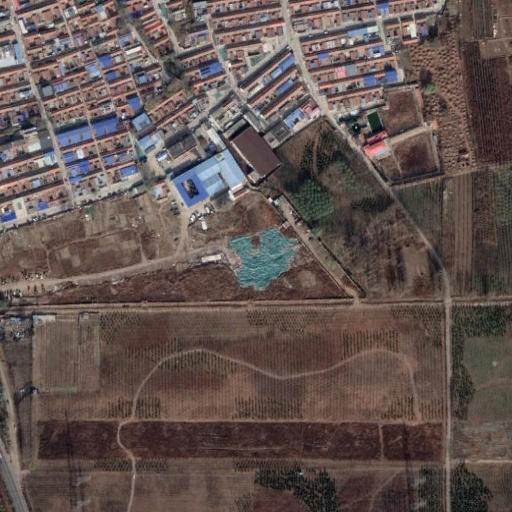cw: (229, 224, 301, 290)
